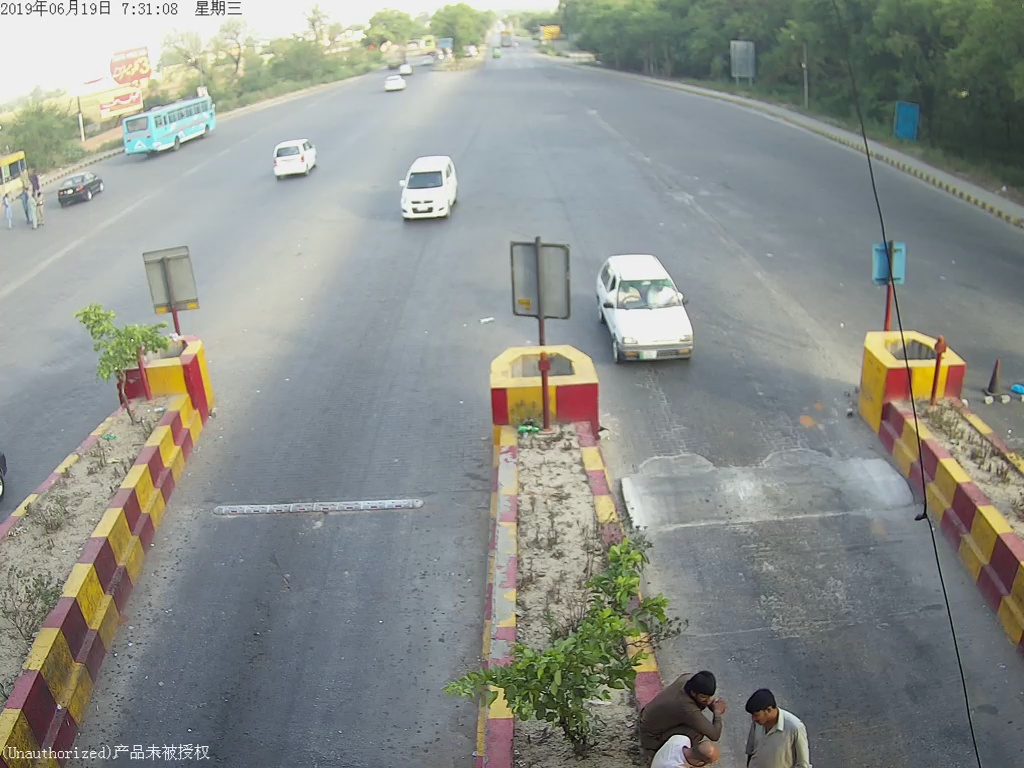Cat-1: (587, 251, 705, 364), (387, 156, 471, 246)
